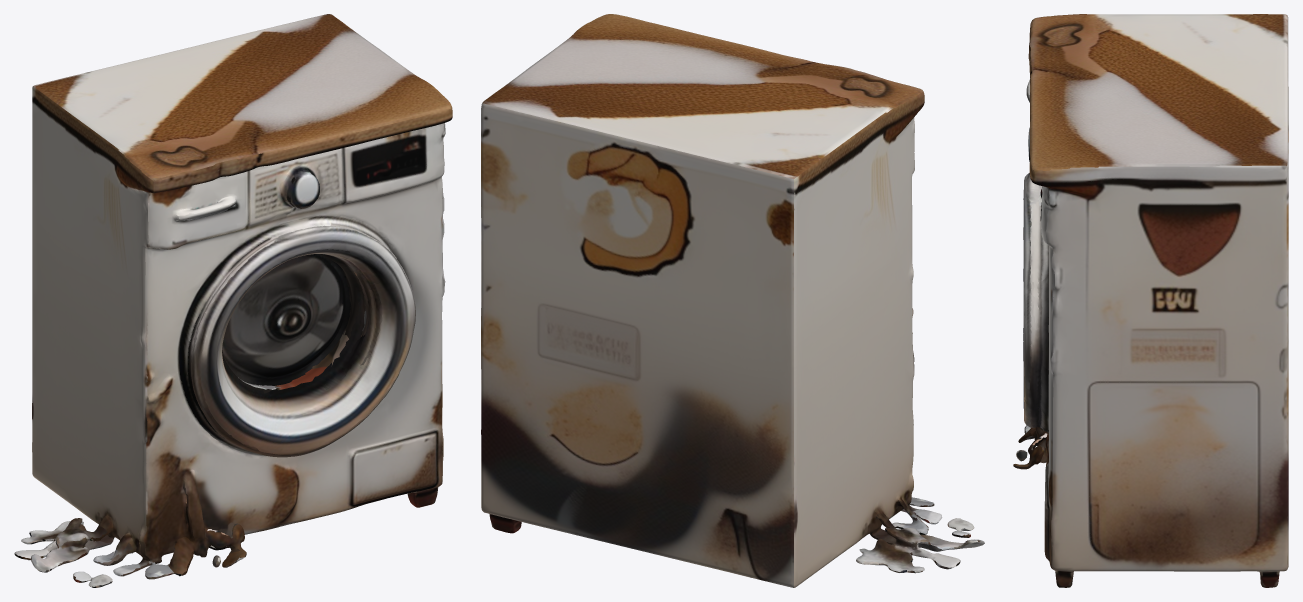
The model's file is lavarropas.glb.
3 views of the same model, side by side, from view 1: azimuth 30°, elevation 25°; view 2: azimuth 150°, elevation 25°; view 3: azimuth 270°, elevation 25° (orthographic). The views are drawn at different scales.
Visible parts, largest first — view 1: tmpbum9o5fa.ply; view 2: tmpbum9o5fa.ply; view 3: tmpbum9o5fa.ply.
Boxes of the visible parts, x1,y1,x2,y2 form: tmpbum9o5fa.ply: (14, 14, 452, 587); tmpbum9o5fa.ply: (481, 14, 984, 587); tmpbum9o5fa.ply: (1013, 14, 1288, 587).
Size of the model in its own units: 0.9901 by 0.9929 by 0.5798.
Materials: 1 (1 with a texture image).
